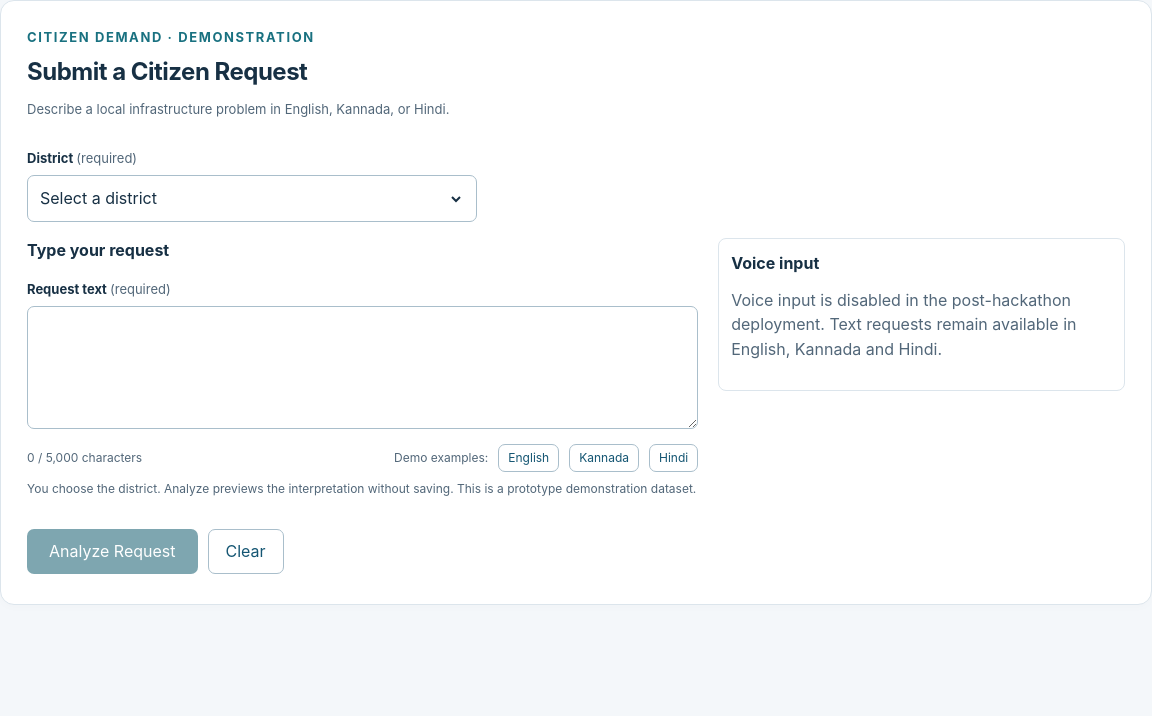
it: text changes invalidate preview and require reanalysis
This screenshot has width=1152, height=716.
Select "Bengaluru Rural · Karnataka" in the dropdown labelled "District (required)" at (252, 199), box 27,175 -> 477,222
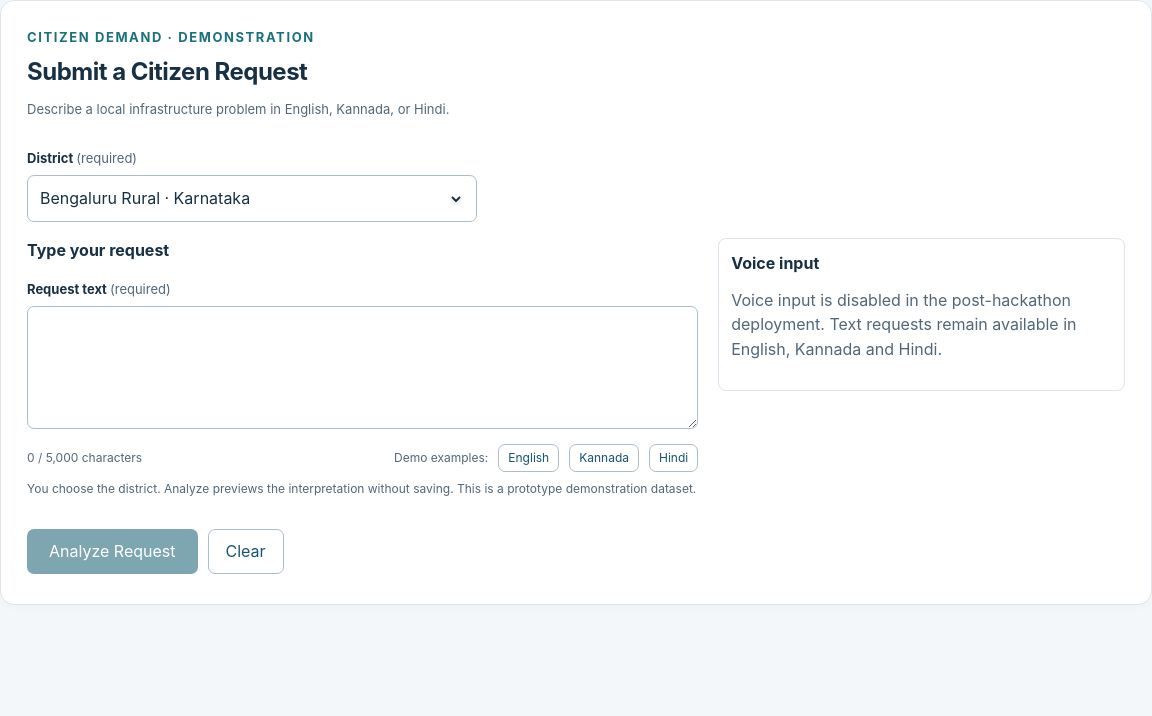
Type "Village water has stopped." into the text box labelled "Request text (required)".
click(363, 367); type("Village water has stopped.")  # box 27,306 -> 698,429
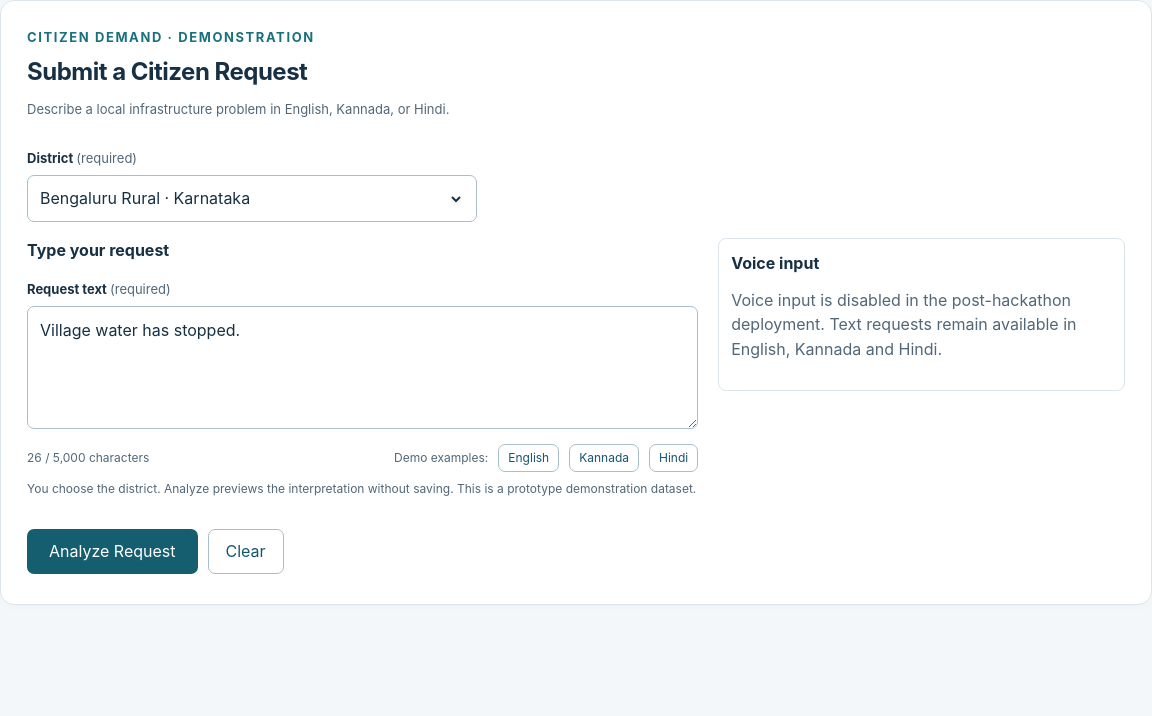
Click the button "Analyze Request".
click(112, 551)  # box 27,529 -> 198,574
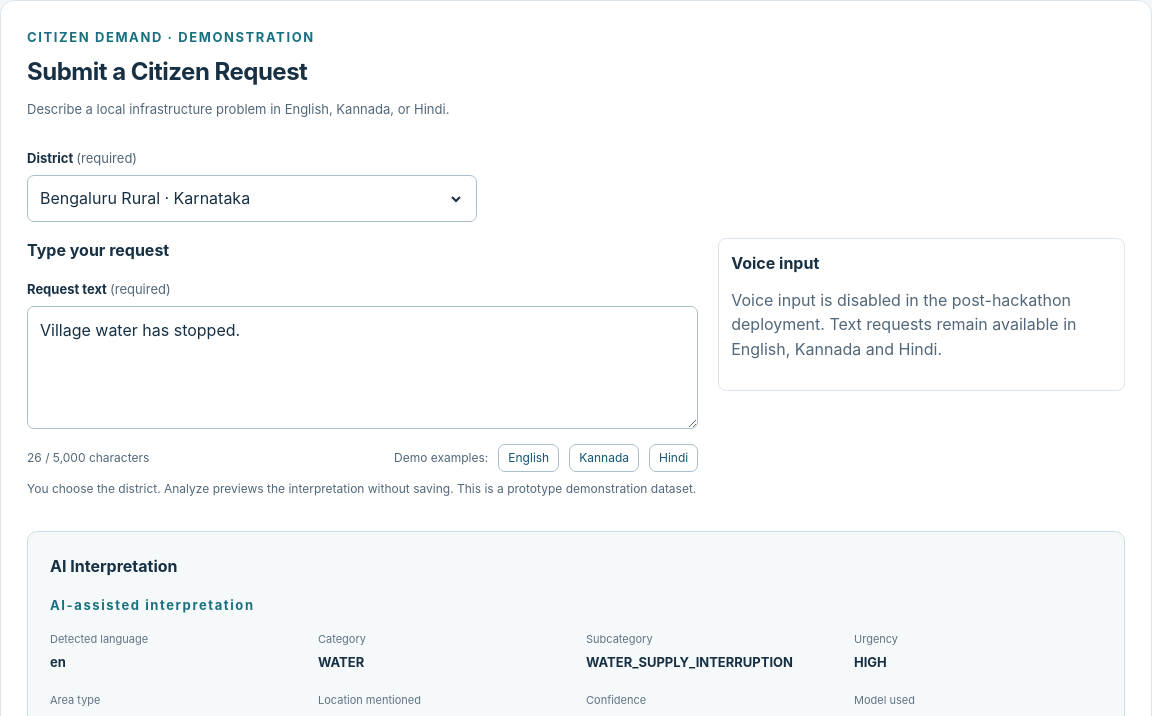
expect the heading "AI Interpretation" is shown: met, box 50,556 -> 178,576
Replace the text in the text box labelled "Request text (required)" with "Different water problem" at (363, 367), box 27,306 -> 698,429
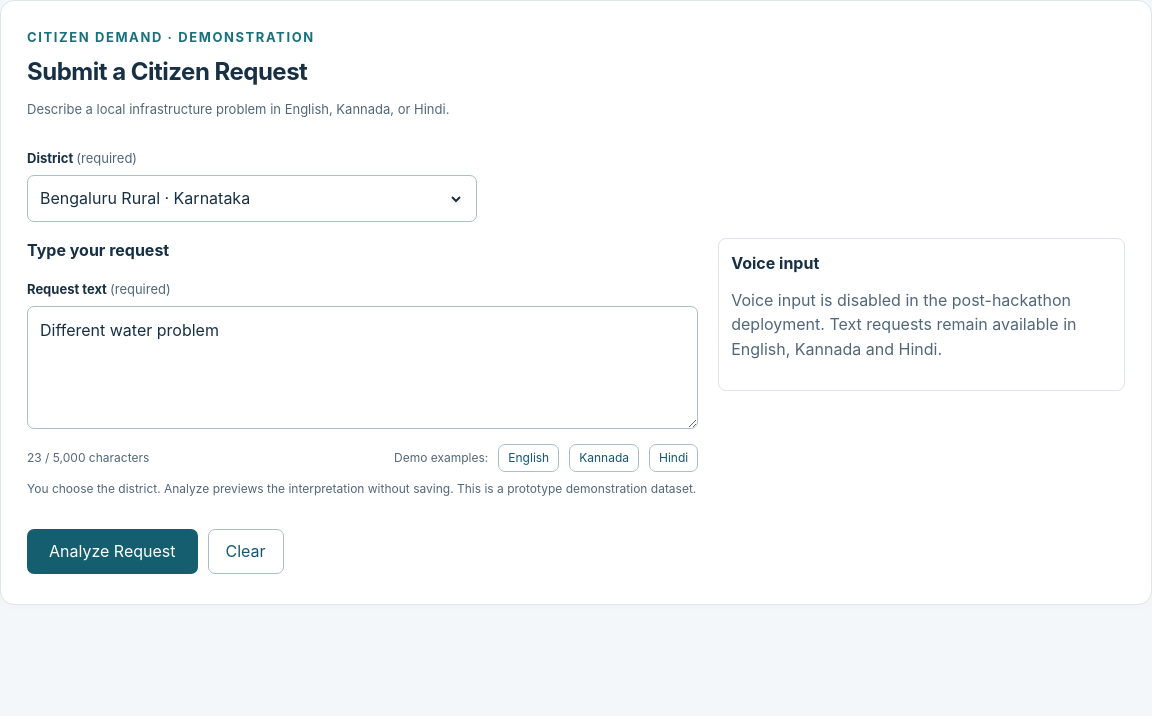
expect the heading "AI Interpretation" is gone: met
